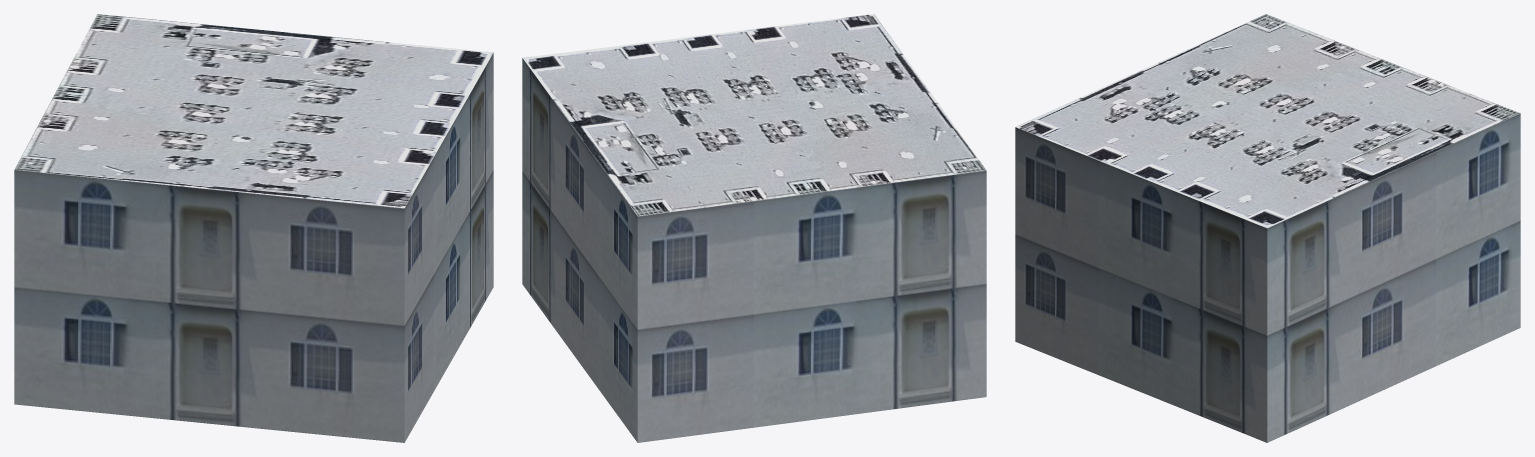
The model's file is ResTex__273.fbx.
3 renders of one model, left to right at view 1: azimuth 30°, elevation 25°; view 2: azimuth 150°, elevation 25°; view 3: azimuth 270°, elevation 25°, orthographic. The views are drawn at different scales.
Parts seen in each view (by area): view 1: CityEngineMaterial_17_m, CityEngineMaterial_2_m; view 2: CityEngineMaterial_17_m, CityEngineMaterial_2_m; view 3: CityEngineMaterial_17_m, CityEngineMaterial_2_m.
Part boxes in pixels (x1,y1,x2,y2): CityEngineMaterial_17_m: [14, 53, 493, 442]; CityEngineMaterial_2_m: [14, 14, 493, 208]; CityEngineMaterial_17_m: [522, 58, 986, 442]; CityEngineMaterial_2_m: [523, 14, 986, 216]; CityEngineMaterial_17_m: [1015, 113, 1520, 442]; CityEngineMaterial_2_m: [1015, 14, 1520, 228].
Bounding box in the file's own units: 12.86 × 6 × 12.81.
2 materials, 2 textured.
